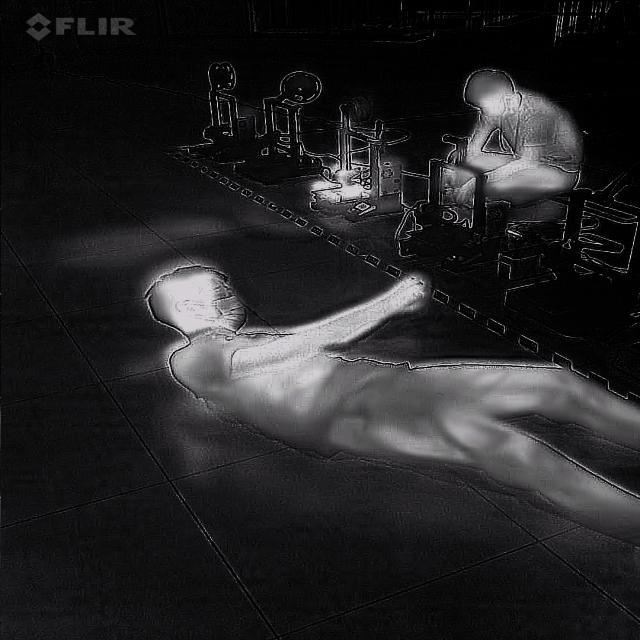Victim: (136, 259, 638, 554), (424, 59, 605, 242)
